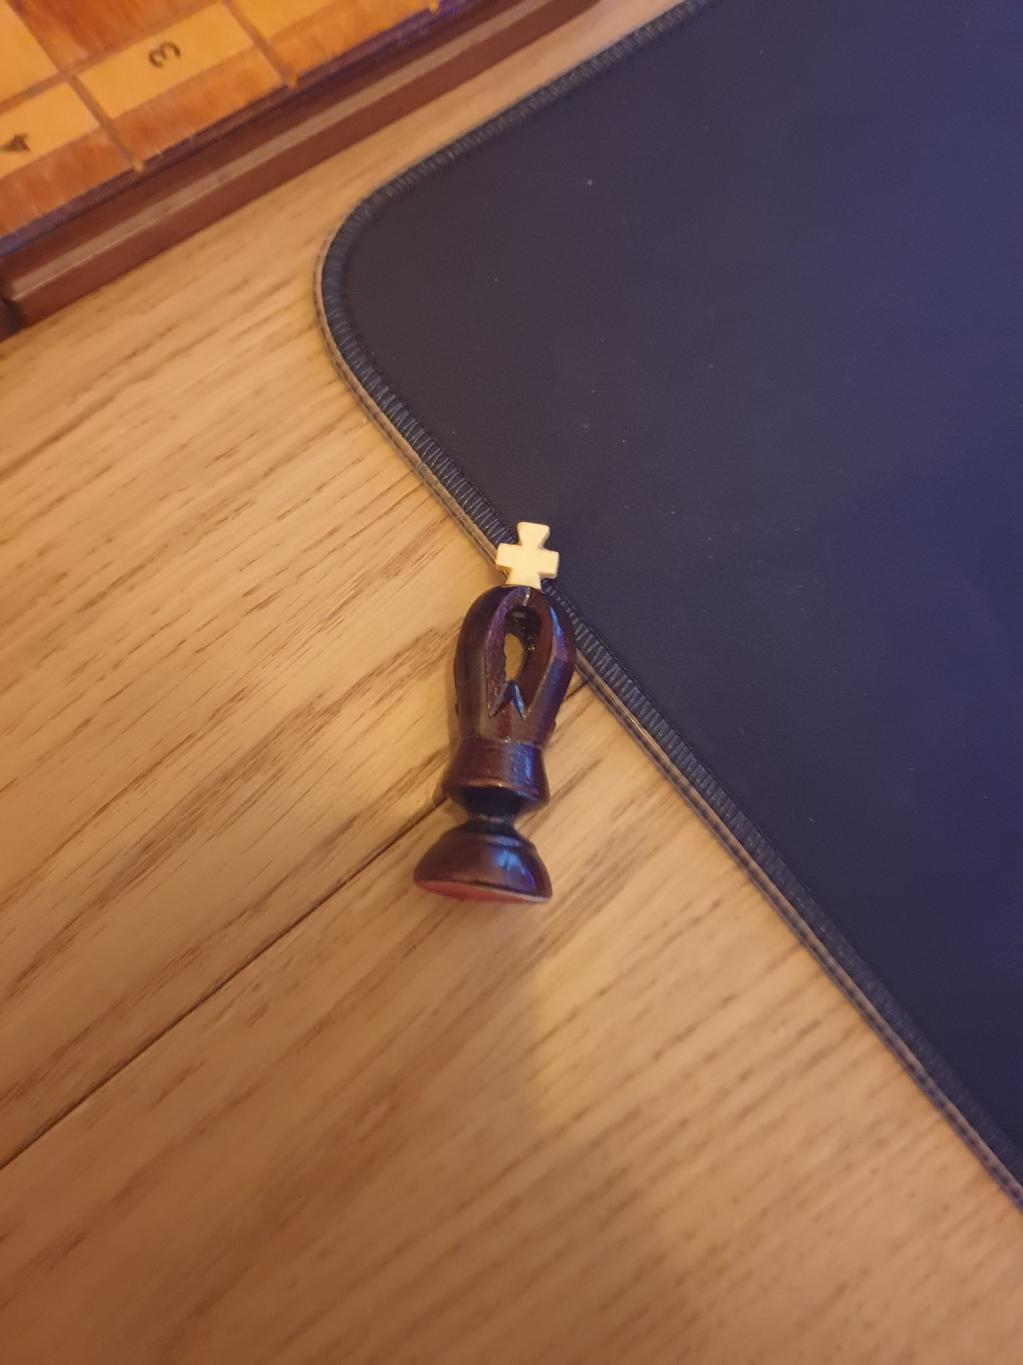bking: (413, 520, 574, 904)
